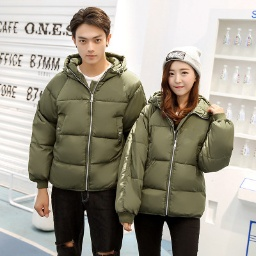face: (153, 53, 207, 120), (64, 5, 115, 68)
